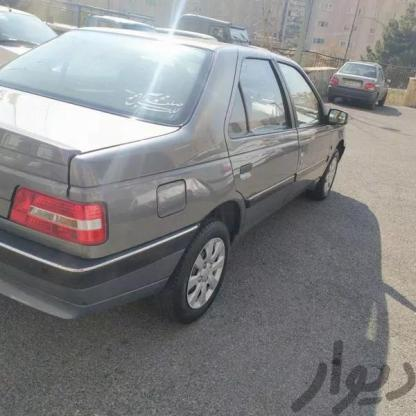Car: (0, 24, 364, 336), (0, 0, 59, 86), (323, 53, 399, 111)
